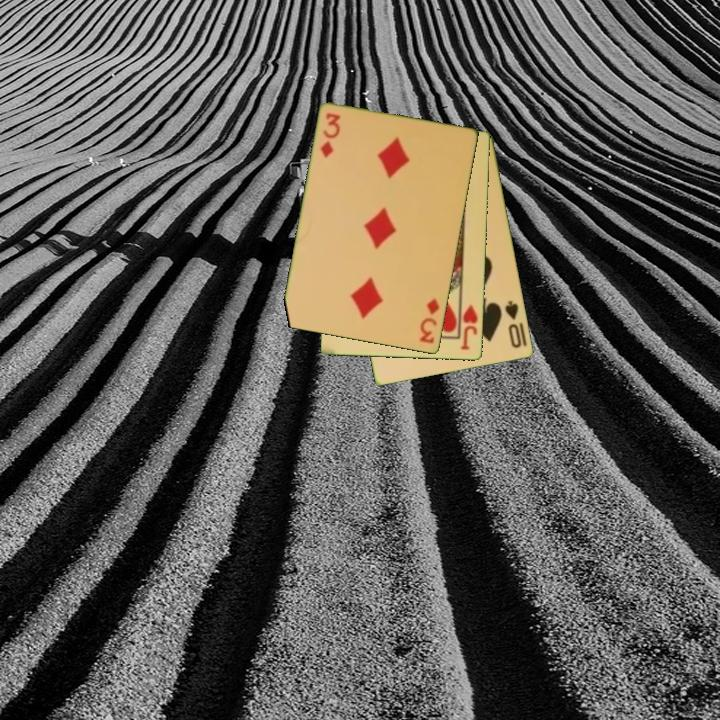10s: (502, 298, 525, 351)
3d: (416, 295, 443, 347), (317, 109, 343, 161)
Jh: (458, 301, 481, 353)
